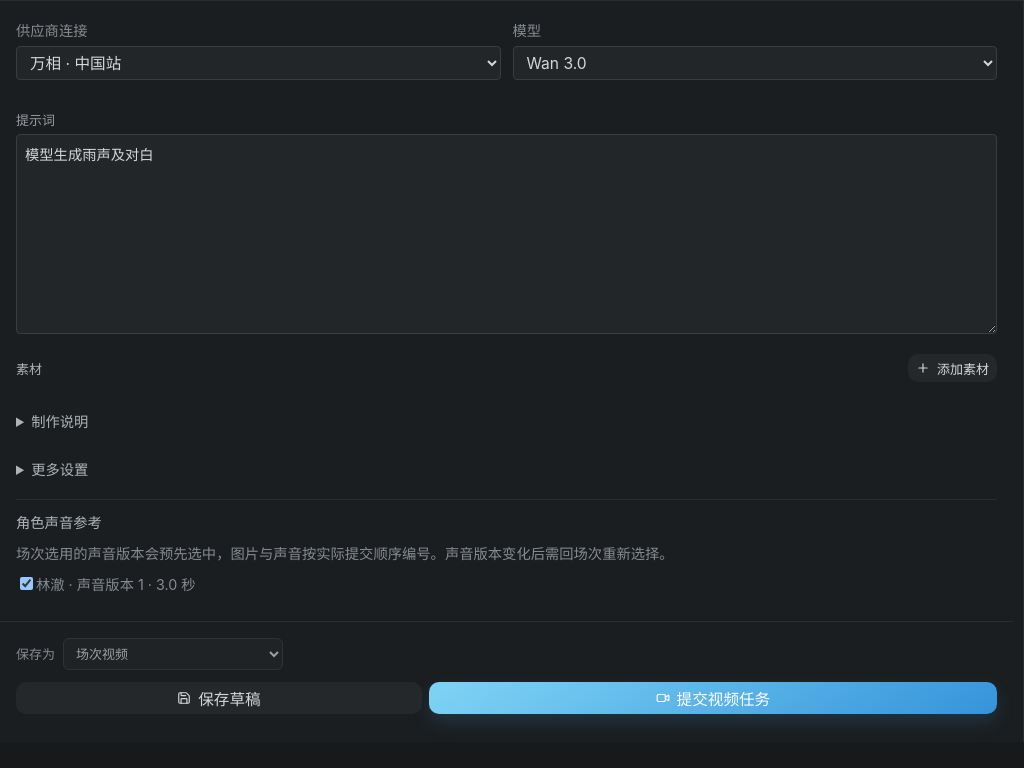
Test: scene production bindings › shows schema notices and rejects incompatible bound dialogue before submission
Expected: the checkbox labelled "林澈 · 声音版本 1 · 3.0 秒" is checked, [20,577,33,590]
Click the button "提交视频任务".
click(713, 698)  # box [429,682,997,714]
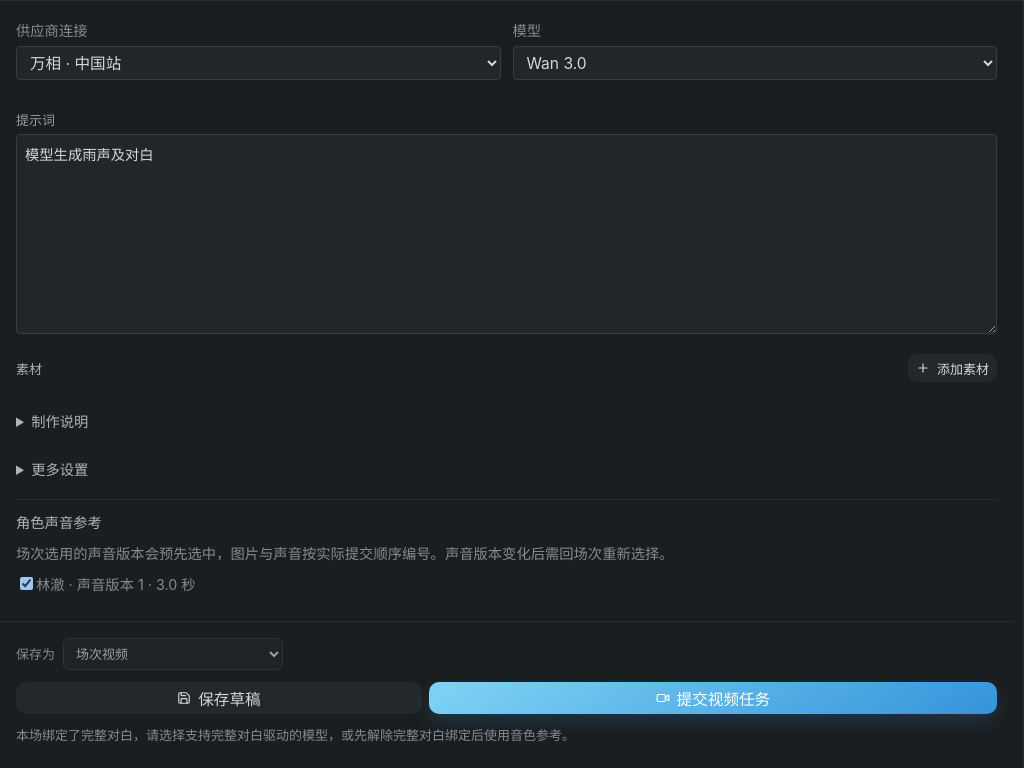
Now the text "本场绑定了完整对白，请选择支持完整对白驱动的模型，或先解除完整对白绑定后使用音色参考。" is shown, box [16,726,575,742]
